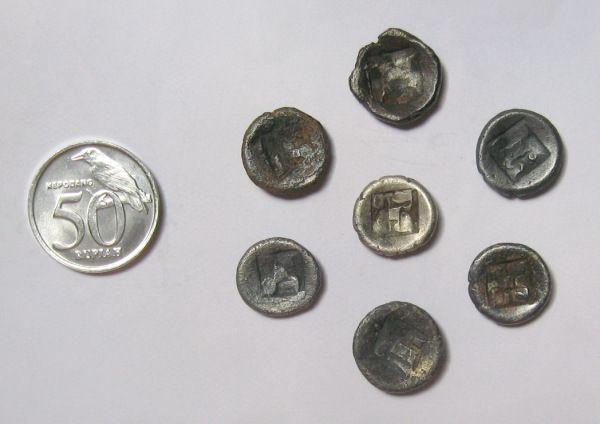coin_50_1999: (25, 137, 165, 278)
